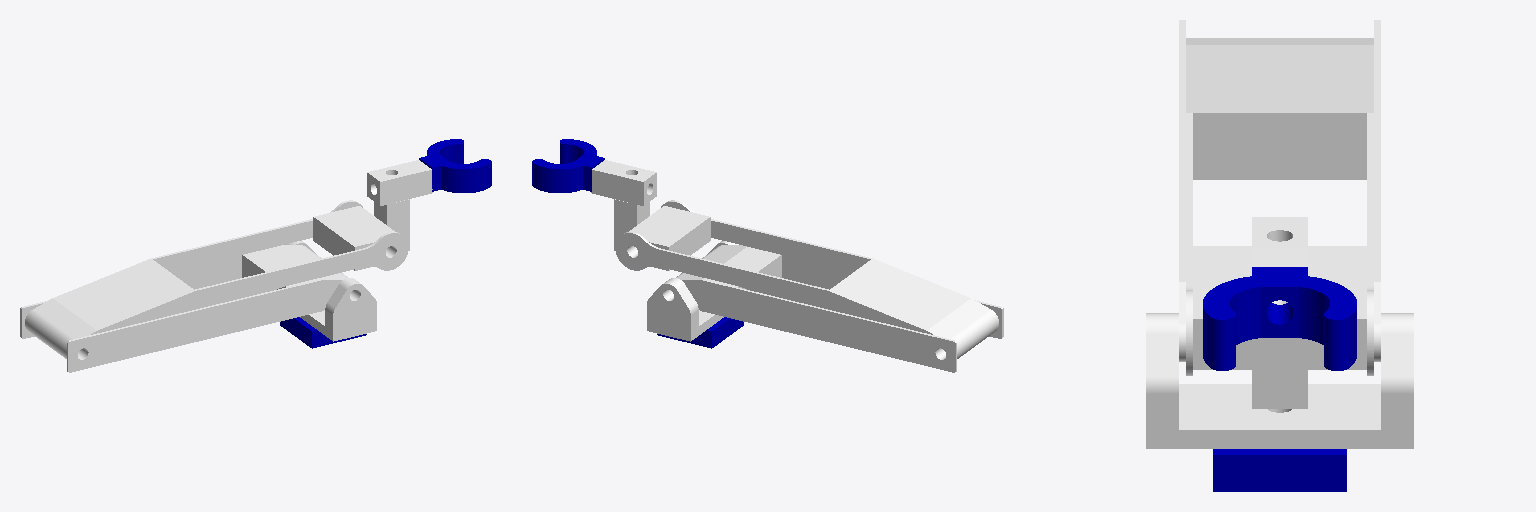
robot.urdf — simple_arm:
<?xml version="1.0"?>
<robot name="simple_arm">

  <material name="blue">
    <color rgba="0 0 0.8 1"/>
  </material>

  <material name="white">
    <color rgba="1 1 1 1"/>
  </material>

  <link name="base_link">
    <visual>
     <origin rpy="0 0 0" xyz="0 0 0"/>
      <geometry>
        <cylinder length="0.01" radius="0.02"/>
      </geometry>
    </visual>
  </link>

  <link name="body0_link_yaw">
    <visual>
      <geometry>
        <mesh filename="package://simple_arm_moveit_demo_description/meshes/arm_parts_0.stl" />
      </geometry>
      <origin xyz="0 0 0" rpy="0 0 0"/>
      <material name="blue"/>
    </visual>
    
    <collision>
      <geometry>
        <mesh filename="package://simple_arm_moveit_demo_description/meshes/arm_parts_0.stl" />
      </geometry>
      <origin xyz="0 0 0" rpy="0 0 0"/>
    </collision>
  </link>
  
  <link name="body1_link">
    <visual>
      <geometry>
        <mesh filename="package://simple_arm_moveit_demo_description/meshes/arm_parts_1.stl" />
      </geometry>
      <origin xyz="0 0 0" rpy="0 0 0"/>
      <material name="white"/>
    </visual>

    <collision>
      <geometry>
        <mesh filename="package://simple_arm_moveit_demo_description/meshes/arm_parts_1.stl" />
      </geometry>
      <origin xyz="0 0 0" rpy="0 0 0"/>
    </collision>
  </link>
  
  <link name="body2_link">
    <visual>
      <geometry>
       <mesh filename="package://simple_arm_moveit_demo_description/meshes/arm_parts_2.stl" />
      </geometry>
      <origin xyz="0 0 -0.101" rpy="0 0 0"/>
      <material name="white"/>
    </visual>

    <collision>
      <geometry>
       <mesh filename="package://simple_arm_moveit_demo_description/meshes/arm_parts_2.stl" />
      </geometry>
      <origin xyz="0 0 -0.101" rpy="0 0 0"/>
    </collision>

  </link>
  
  <link name="body3_link">
    <visual>
      <geometry>
        <mesh filename="package://simple_arm_moveit_demo_description/meshes/arm_parts_3.stl" />
      </geometry>
      <origin xyz="0.480 0 -0.101" rpy="0 0 0"/>
      <material name="white"/>
    </visual>

    <collision>
      <geometry>
        <mesh filename="package://simple_arm_moveit_demo_description/meshes/arm_parts_3.stl" />
      </geometry>
      <origin xyz="0.480 0 -0.101" rpy="0 0 0"/>
    </collision>

  </link>

  <link name="body4_link">
    <visual>
      <geometry>
        <mesh filename="package://simple_arm_moveit_demo_description/meshes/arm_parts_4.stl" />
      </geometry>
      <origin xyz="-0.08235 0 -0.1453" rpy="0 0 0"/>
      <material name="white"/>
    </visual>

    <collision>
      <geometry>
        <mesh filename="package://simple_arm_moveit_demo_description/meshes/arm_parts_4.stl" />
      </geometry>
      <origin xyz="-0.08235 0 -0.1453" rpy="0 0 0"/>
    </collision>
  </link>

  <link name="body5_link">
    <visual>
      <geometry>
       <mesh filename="package://simple_arm_moveit_demo_description/meshes/arm_parts_5.stl" />
      </geometry>
      <origin xyz="-0.12435 0 -0.19" rpy="0 0 0"/>
      <material name="white"/>
    </visual>

    <collision>
      <geometry>
       <mesh filename="package://simple_arm_moveit_demo_description/meshes/arm_parts_5.stl" />
      </geometry>
      <origin xyz="-0.12435 0 -0.19" rpy="0 0 0"/>
    </collision>
  </link>

  <link name="body6_link">
    <visual>
      <geometry>
        <mesh filename="package://simple_arm_moveit_demo_description/meshes/arm_parts_6.stl" />
      </geometry>
      <origin xyz="-0.175 0 -0.22" rpy="0 0 0"/>
      <material name="blue"/>
    </visual>

    <collision>
      <geometry>
        <mesh filename="package://simple_arm_moveit_demo_description/meshes/arm_parts_6.stl" />
      </geometry>
      <origin xyz="-0.175 0 -0.22" rpy="0 0 0"/>
    </collision>
  </link>

  <joint name="body0_joint_yaw" type="fixed">
    <parent link="base_link"/>
    <child link="body0_link_yaw"/>
    <axis xyz="0 0 1"/>
    <origin xyz="0 0 0" rpy="0 0 0"/>
    <limit lower="0" upper="0" effort="0" velocity="3.1415"/>
  </joint>
  
  <joint name="body1_joint" type="revolute">
    <parent link="body0_link_yaw"/>
    <child  link="body1_link"/>
    <axis xyz="0 0 1"/>
    <origin xyz="0 0 0" rpy="0 0 0"/>
    <limit lower="-1.575" upper="1.575" effort="0" velocity="3.1415"/>
  </joint>

  <joint name="body2_joint" type="revolute">
    <parent link="body1_link"/>
    <child  link="body2_link"/>
    <axis xyz="0 1 0"/>
    <origin xyz="0 0 0.101" rpy="0 0 0"/>
    <limit lower="-0" upper="3.15" effort="0" velocity="3.1415"/>
  </joint>

  <joint name="body3_joint" type="revolute">
    <parent link="body2_link"/>
    <child  link="body3_link"/>
    <axis xyz="0 1 0"/>
    <origin xyz="-0.480 -0. 0" rpy="0 0 0"/>
    <limit lower="-3.15" upper="0" effort="0" velocity="3.1415"/>
  </joint>

    <joint name="body4_joint" type="revolute">
    <parent link="body3_link"/>
    <child  link="body4_link"/>
    <axis xyz="0 1 0"/>
    <origin xyz="0.56235 0 0.0443" rpy="0 0 0"/>
    <limit lower="-3.15" upper="3.15" effort="0" velocity="3.1415"/>
  </joint>

  <joint name="body5_joint" type="revolute">
    <parent link="body4_link"/>
    <child  link="body5_link"/>
    <axis xyz="0 0 1"/>
    <origin xyz="0.042 0 0.045" rpy="0 0 0"/>
    <limit lower="-3.15" upper="3.15" effort="0" velocity="3.1415"/>
  </joint>

  <joint name="body6_joint" type="revolute">
    <parent link="body5_link"/>
    <child  link="body6_link"/>
    <axis xyz="1 0 0"/>
    <origin xyz="0.05 0 0.033" rpy="0 0 0"/>
    <limit lower="-3.14159265" upper="3.14159265" effort="0" velocity="3.1415"/>
  </joint>

</robot>

--- What the picture shows (computed from the rendered views, not written in the file) ---
The picture shows the robot from 3 angles, left to right: view 1: azimuth 30°, elevation 25°; view 2: azimuth 150°, elevation 25°; view 3: azimuth 270°, elevation 25°; orthographic projection.
Robot: simple_arm — 8 links, 7 joints (6 revolute, 1 fixed); root link base_link; default pose: all joints at 0.
Visible links, largest first — view 1: body3_link, body2_link, body4_link, body1_link, body6_link, body5_link, body0_link_yaw; view 2: body3_link, body2_link, body4_link, body1_link, body6_link, body5_link, body0_link_yaw; view 3: body3_link, body1_link, body6_link, body4_link, body2_link, body0_link_yaw, body5_link.
Boxes of the visible links, left/top/right/bottom form: body3_link: left=25, top=200, right=408, bottom=358; body2_link: left=20, top=245, right=347, bottom=372; body4_link: left=313, top=199, right=409, bottom=270; body1_link: left=285, top=241, right=376, bottom=341; body6_link: left=419, top=139, right=491, bottom=192; body5_link: left=367, top=160, right=432, bottom=205; body0_link_yaw: left=280, top=317, right=366, bottom=348; body3_link: left=615, top=200, right=998, bottom=358; body2_link: left=676, top=245, right=1003, bottom=372; body4_link: left=614, top=199, right=710, bottom=270; body1_link: left=647, top=241, right=738, bottom=341; body6_link: left=532, top=139, right=604, bottom=192; body5_link: left=591, top=160, right=656, bottom=205; body0_link_yaw: left=657, top=317, right=743, bottom=348; body3_link: left=1186, top=38, right=1373, bottom=375; body1_link: left=1146, top=313, right=1413, bottom=448; body6_link: left=1203, top=267, right=1356, bottom=370; body4_link: left=1193, top=272, right=1366, bottom=408; body2_link: left=1179, top=20, right=1380, bottom=361; body0_link_yaw: left=1213, top=449, right=1346, bottom=491; body5_link: left=1252, top=217, right=1307, bottom=304.
Size in the robot's own frame: 0.7859 by 0.2 by 0.2526 metres.
7 mesh visuals loaded from 7 distinct referenced files (7 binary STL).